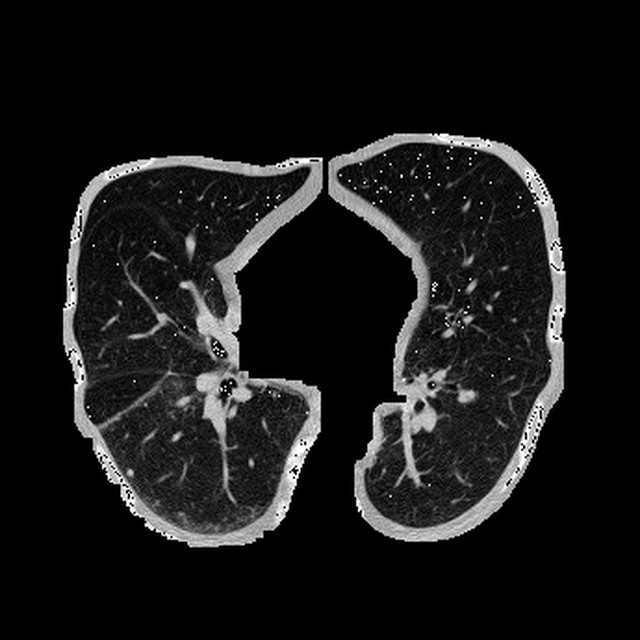PN: (126, 469, 134, 477)
